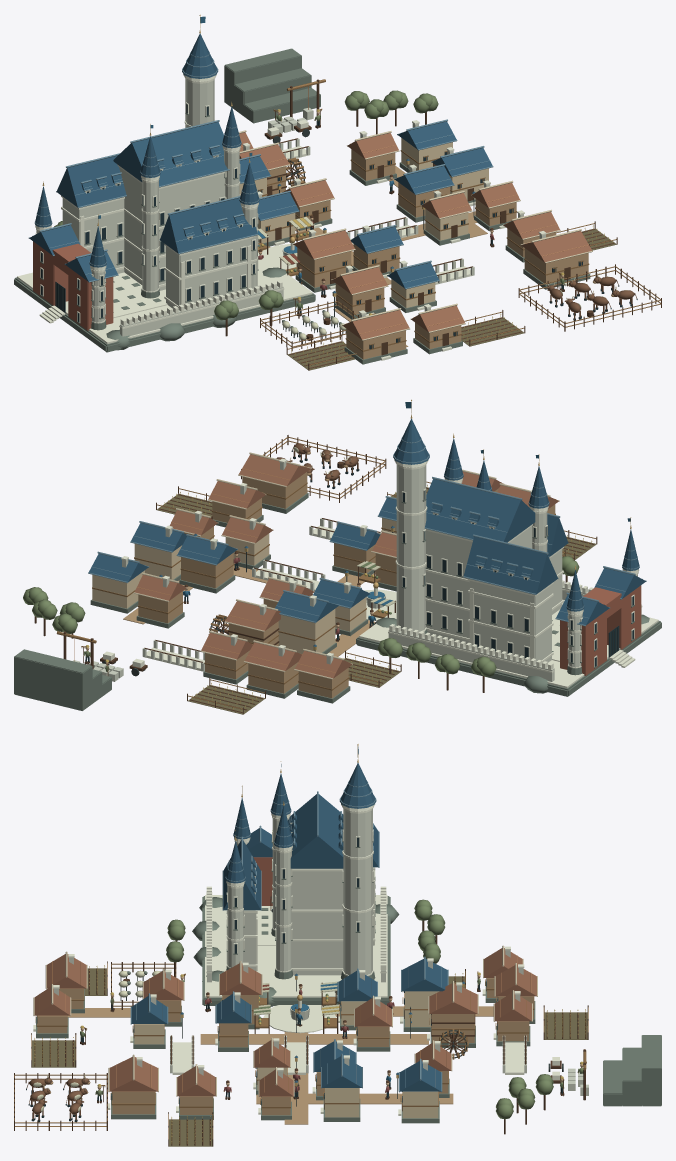
The model's file is royal-castle-v4.glb.
The picture shows the model from 3 angles, top to bottom: view 1: azimuth 30°, elevation 25°; view 2: azimuth 150°, elevation 25°; view 3: azimuth 270°, elevation 25°; orthographic projection.
Visible parts, largest first — view 1: royal-castle-v4 Blue slate roof, royal-castle-v4 Alpine white limestone, royal-castle-v4 Carved ivory limestone, royal-castle-v4 Weathered foundation, royal-castle-v4 Terracotta village tiles, royal-castle-v4 Warm village plaster, royal-castle-v4 Dark timber beams, royal-castle-v4 Warm cut timber, royal-castle-v4 Slate ridge caps, royal-castle-v4 Ivory lime plaster, royal-castle-v4 Rose brick gateway, royal-castle-v4 Deep window recess (+6 smaller); view 2: royal-castle-v4 Blue slate roof, royal-castle-v4 Alpine white limestone, royal-castle-v4 Warm village plaster, royal-castle-v4 Carved ivory limestone, royal-castle-v4 Terracotta village tiles, royal-castle-v4 Weathered foundation, royal-castle-v4 Ivory lime plaster, royal-castle-v4 Dark timber beams, royal-castle-v4 Moss between stones, royal-castle-v4 Rose brick gateway, royal-castle-v4 Slate ridge caps, royal-castle-v4 Packed camp earth (+6 smaller); view 3: royal-castle-v4 Alpine white limestone, royal-castle-v4 Blue slate roof, royal-castle-v4 Terracotta village tiles, royal-castle-v4 Carved ivory limestone, royal-castle-v4 Warm village plaster, royal-castle-v4 Weathered foundation, royal-castle-v4 Ivory lime plaster, royal-castle-v4 Packed camp earth, royal-castle-v4 Dark timber beams, royal-castle-v4 Moss between stones, royal-castle-v4 Warm cut timber, royal-castle-v4 Slate ridge caps (+7 smaller).
Boxes of the visible parts, box(x1,y1,x2,y2) form: royal-castle-v4 Blue slate roof: box(29, 33, 492, 293); royal-castle-v4 Alpine white limestone: box(36, 79, 545, 336); royal-castle-v4 Carved ivory limestone: box(17, 74, 569, 360); royal-castle-v4 Weathered foundation: box(14, 48, 590, 364); royal-castle-v4 Terracotta village tiles: box(239, 132, 591, 339); royal-castle-v4 Warm village plaster: box(258, 149, 614, 359); royal-castle-v4 Dark timber beams: box(225, 79, 661, 370); royal-castle-v4 Warm cut timber: box(258, 79, 661, 365); royal-castle-v4 Slate ridge caps: box(28, 52, 493, 289); royal-castle-v4 Ivory lime plaster: box(239, 138, 488, 307); royal-castle-v4 Rose brick gateway: box(33, 241, 113, 330); royal-castle-v4 Deep window recess: box(41, 104, 637, 349); royal-castle-v4 Blue slate roof: box(89, 418, 645, 646); royal-castle-v4 Alpine white limestone: box(73, 462, 641, 681); royal-castle-v4 Warm village plaster: box(123, 452, 555, 698); royal-castle-v4 Carved ivory limestone: box(103, 458, 658, 688); royal-castle-v4 Terracotta village tiles: box(134, 454, 558, 678); royal-castle-v4 Weathered foundation: box(14, 492, 661, 710); royal-castle-v4 Ivory lime plaster: box(92, 518, 396, 653); royal-castle-v4 Dark timber beams: box(34, 435, 597, 714); royal-castle-v4 Moss between stones: box(23, 556, 579, 676); royal-castle-v4 Rose brick gateway: box(560, 585, 641, 675); royal-castle-v4 Slate ridge caps: box(88, 437, 646, 626); royal-castle-v4 Packed camp earth: box(157, 487, 596, 714); royal-castle-v4 Alpine white limestone: box(54, 809, 588, 1095); royal-castle-v4 Blue slate roof: box(131, 763, 464, 1091); royal-castle-v4 Terracotta village tiles: box(34, 948, 536, 1096); royal-castle-v4 Carved ivory limestone: box(33, 804, 559, 1115); royal-castle-v4 Warm village plaster: box(37, 978, 533, 1124); royal-castle-v4 Weathered foundation: box(36, 839, 661, 1123); royal-castle-v4 Ivory lime plaster: box(134, 991, 439, 1118); royal-castle-v4 Packed camp earth: box(32, 968, 587, 1146); royal-castle-v4 Dark timber beams: box(14, 899, 588, 1146); royal-castle-v4 Moss between stones: box(80, 899, 583, 1119); royal-castle-v4 Warm cut timber: box(14, 963, 588, 1139); royal-castle-v4 Slate ridge caps: box(130, 781, 448, 1092).
Size of the model in its own units: 41.69 by 19.17 by 45.4.
